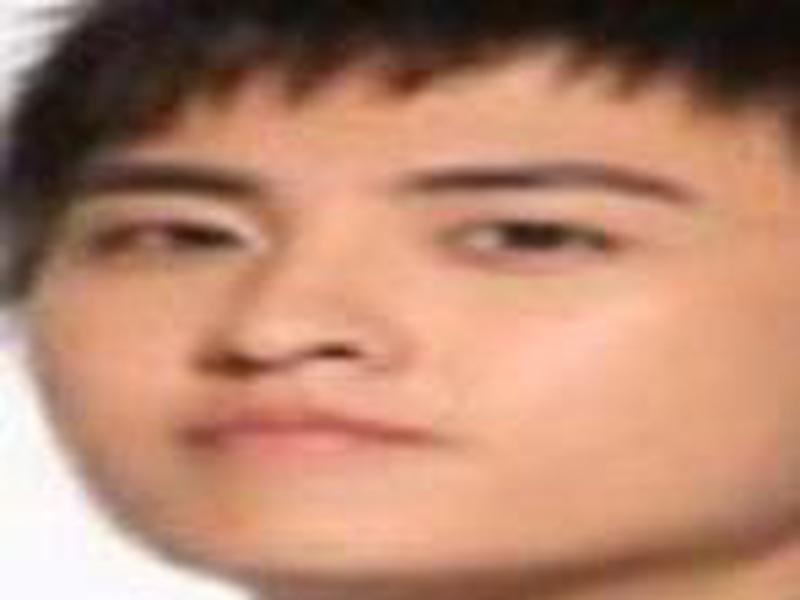without_mask: (21, 67, 787, 585)
